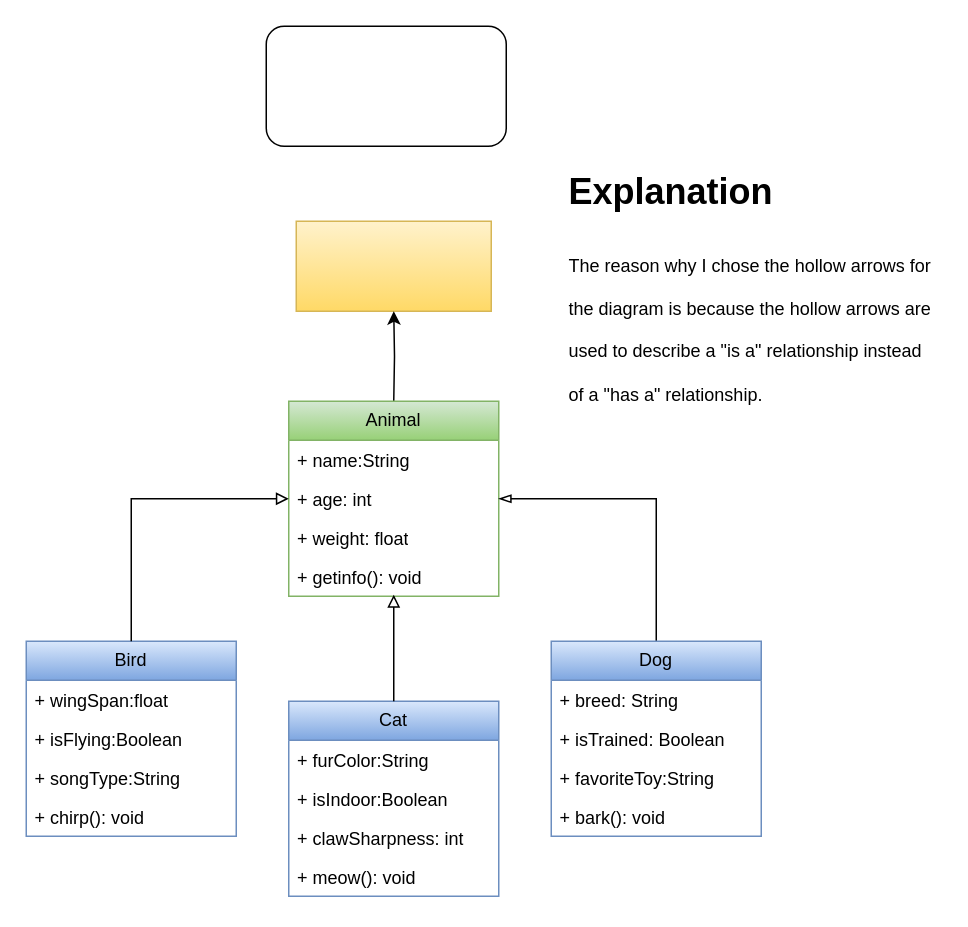
The diagram is 968 pixels wide and 927 high, and some of its shapes have lost their labels. The shapes that lost their labels are listed below. From the top down, each one's centre as x and y in pixels, then its label:
point 385,85: Inheritance Model - Animals
point 393,265: Entry Point (Main)
